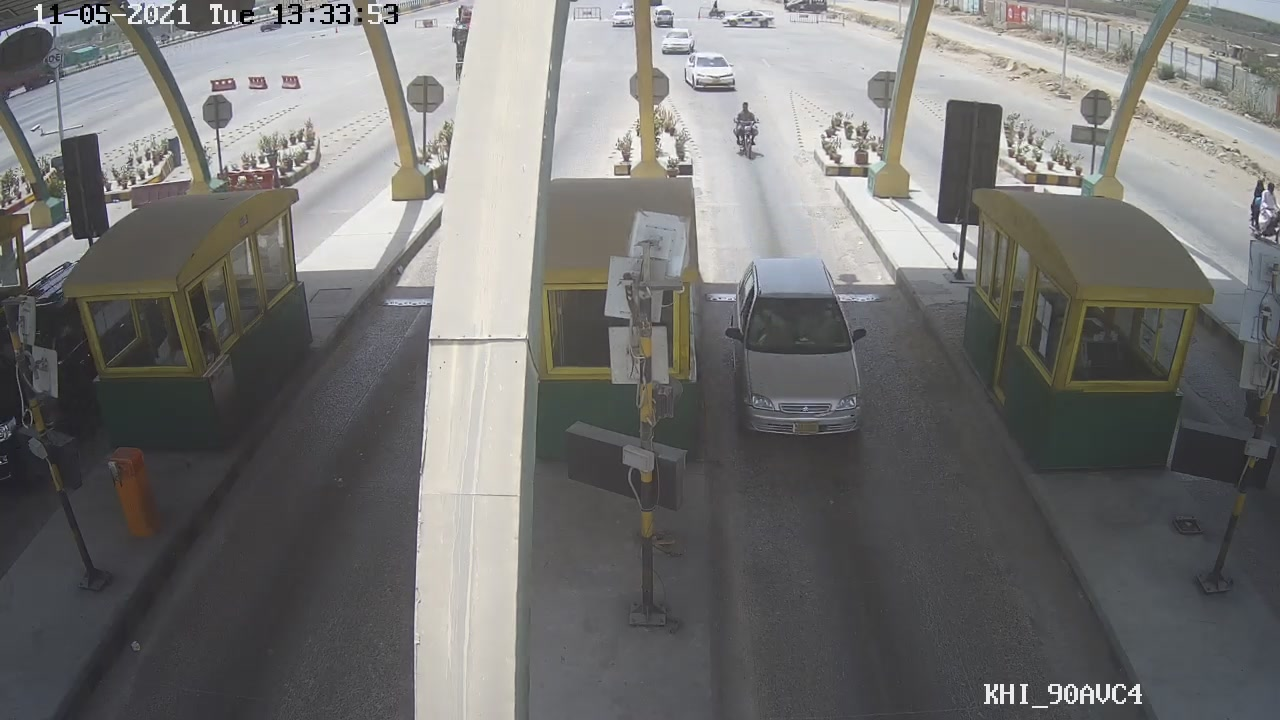F1: (723, 250, 878, 450)
